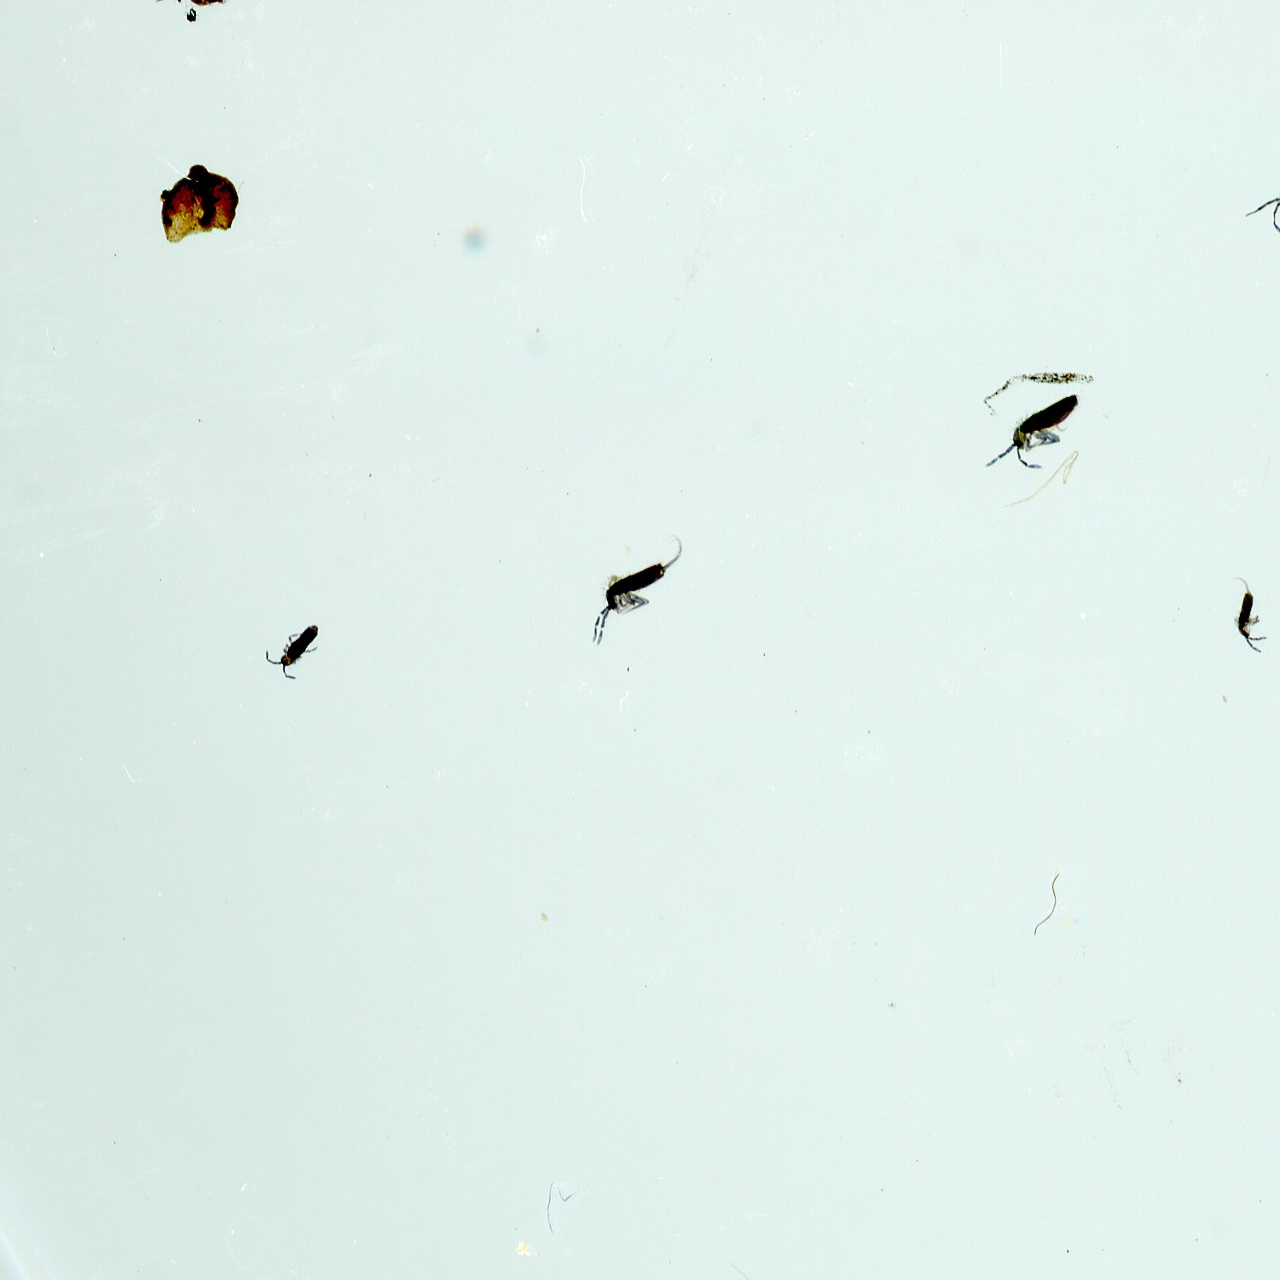arthropod: (974, 363, 1100, 502), (586, 525, 692, 655), (253, 599, 338, 693), (1228, 569, 1275, 657), (1229, 175, 1280, 240)
